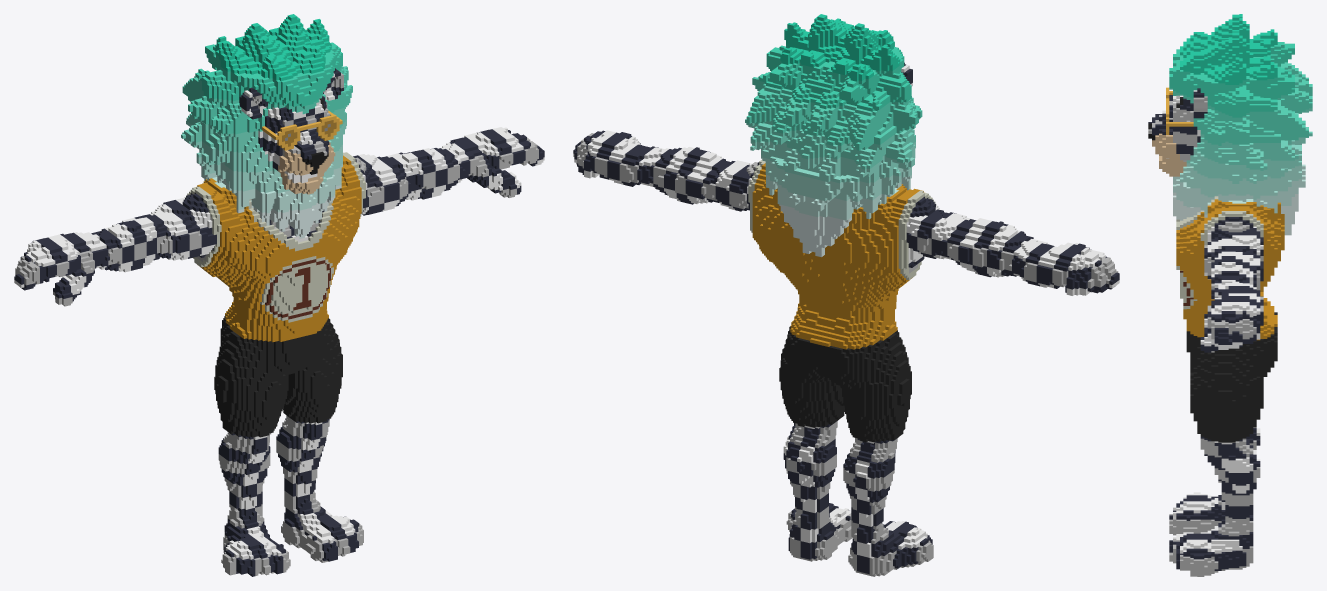
File: 1032-CpoOGE-1.glb
The picture shows the model from 3 angles, left to right: view 1: azimuth 30°, elevation 25°; view 2: azimuth 150°, elevation 25°; view 3: azimuth 270°, elevation 25°; orthographic projection. The views are drawn at different scales.
Visible parts, largest first — view 1: grin; view 2: grin; view 3: grin.
Part boxes in pixels (x1,y1,x2,y2): grin: [14, 14, 544, 576]; grin: [573, 14, 1119, 576]; grin: [1148, 14, 1312, 576].
Bounding box in the file's own units: 17.2 × 16.5 × 4.7.
5 materials, 5 textured.
